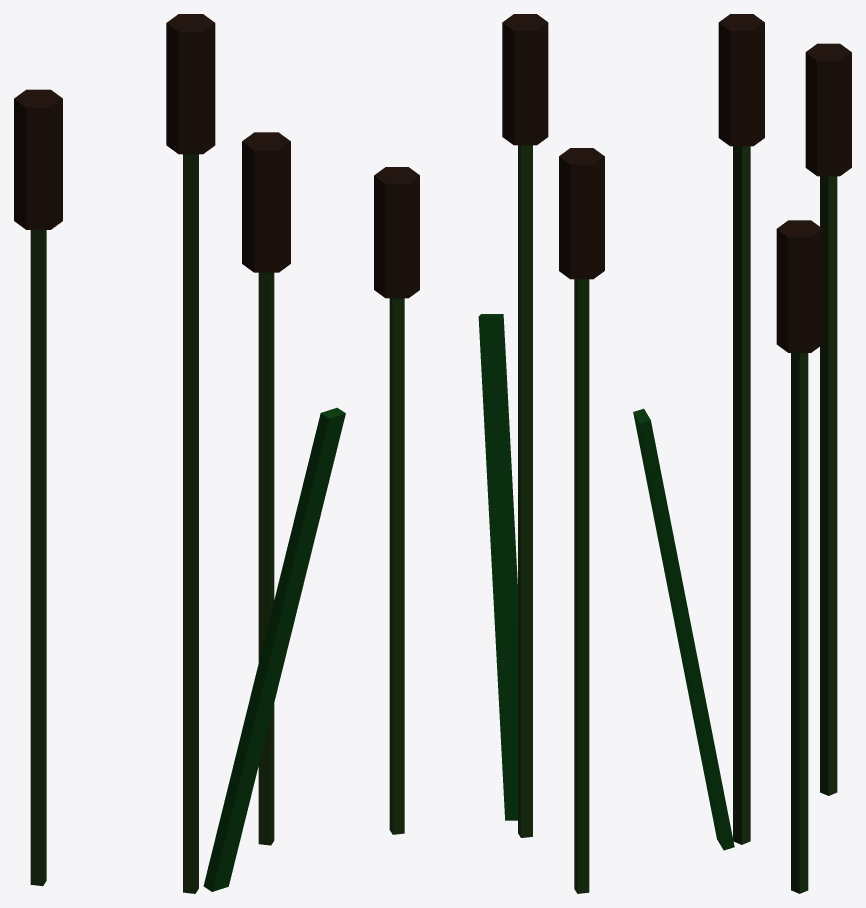
The model's file is cattails.obj.
3 views of the same model, side by side, from view 1: azimuth 30°, elevation 25°; view 2: azimuth 150°, elevation 25°; view 3: azimuth 270°, elevation 25° (orthographic). The views are drawn at different scales.
Parts seen in each view (by area): view 1: cattails; view 2: cattails; view 3: cattails.
Boxes of the visible parts, <box> form: cattails: <box>14,14,345,893</box>; cattails: <box>374,14,604,893</box>; cattails: <box>633,14,851,893</box>.
Bounding box in the file's own units: 0.4693 × 1.56 × 0.3777.
